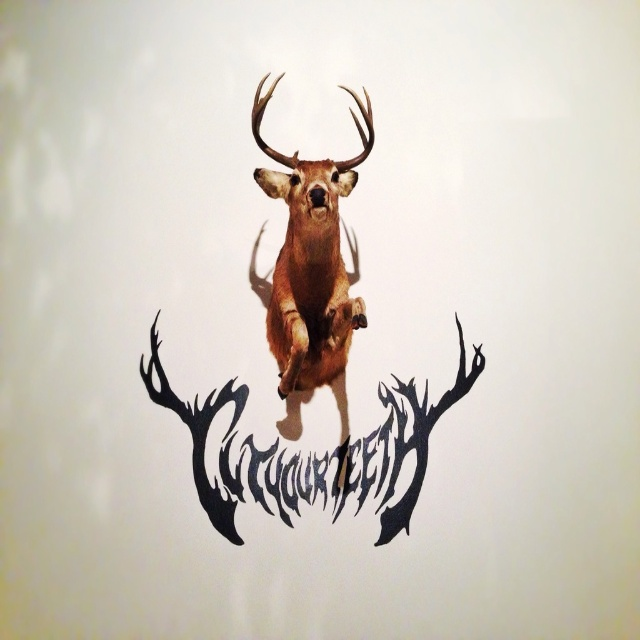Deer: (251, 76, 375, 498)
